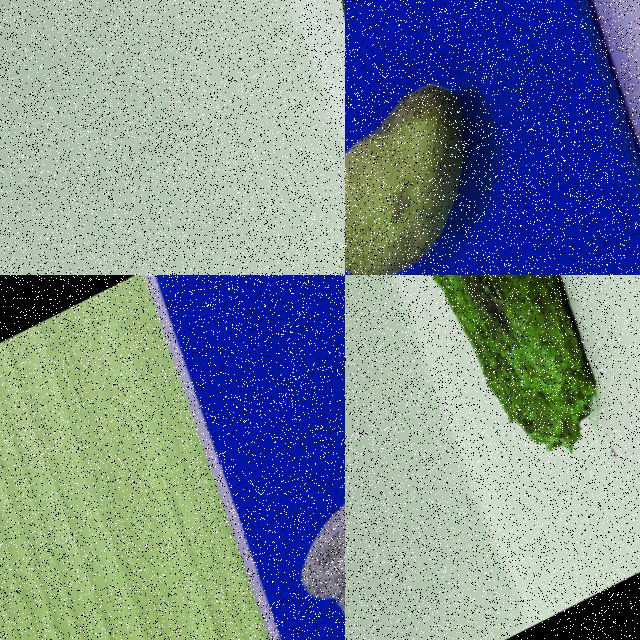Agglomerated_cocoabeans: (152, 275, 344, 639)
Fine_cocoabeans: (345, 0, 622, 274)
Flat_cocoabeans: (345, 275, 639, 517), (218, 0, 344, 203)
